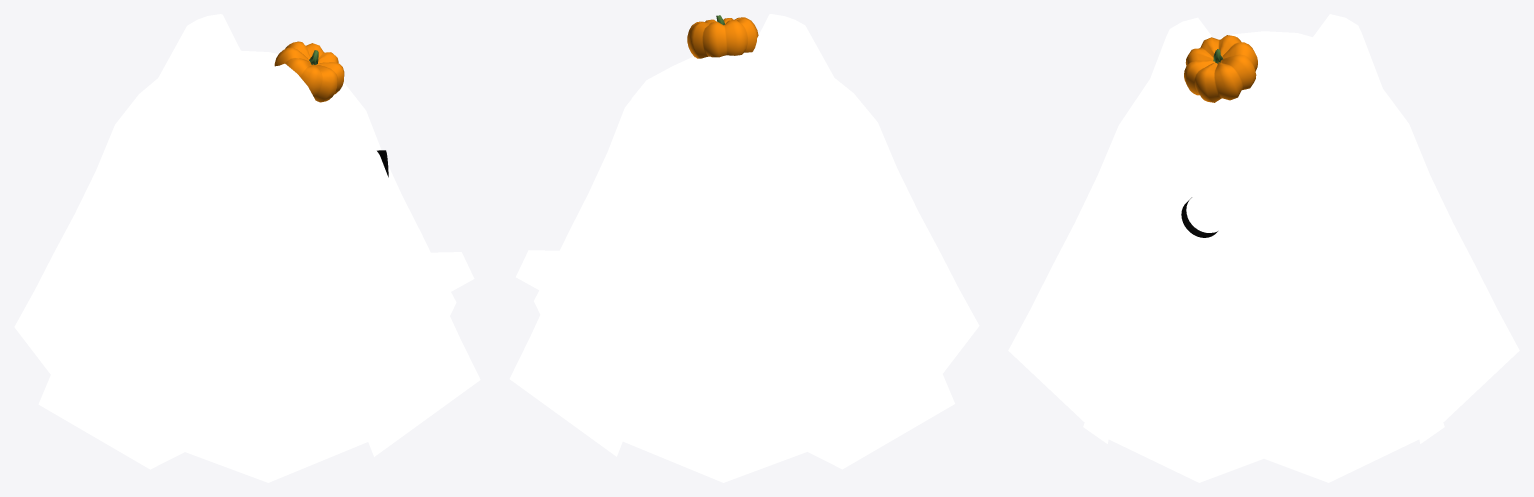
Rendered from little ghost.glb.
3 renders of one model, left to right at view 1: azimuth 30°, elevation 25°; view 2: azimuth 150°, elevation 25°; view 3: azimuth 270°, elevation 25°, orthographic. The views are drawn at different scales.
Parts seen in each view (by area): view 1: 球体, 球体.002; view 2: 球体, 球体.002; view 3: 球体, 球体.002.
Part boxes in pixels (<box>): 球体: <box>14,14,480,482</box>; 球体.002: <box>274,41,344,102</box>; 球体: <box>509,14,979,482</box>; 球体.002: <box>687,17,758,58</box>; 球体: <box>1008,14,1519,482</box>; 球体.002: <box>1184,35,1257,102</box>.
Size of the model in its own units: 1.97 by 1.7 by 1.97.
